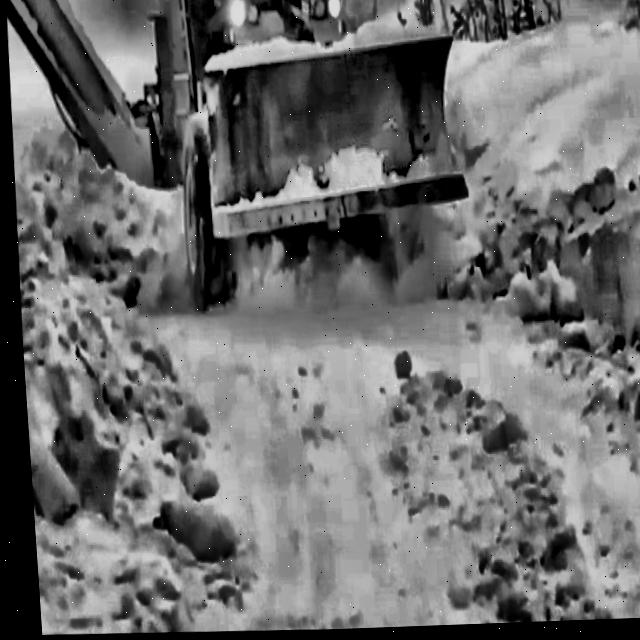buldozerpayloadergrader: (0, 0, 479, 327)
